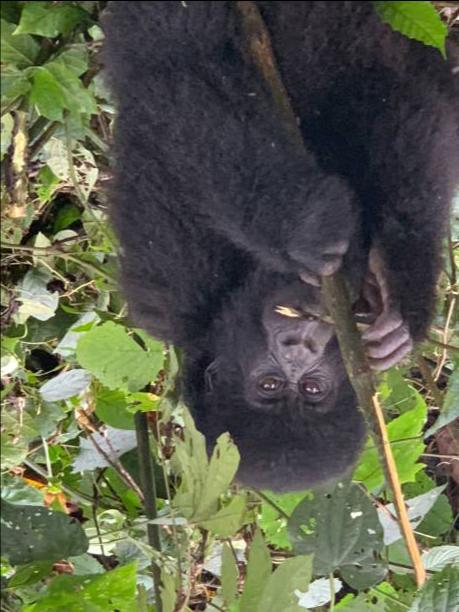goriile_montagne: (40, 0, 451, 512)
